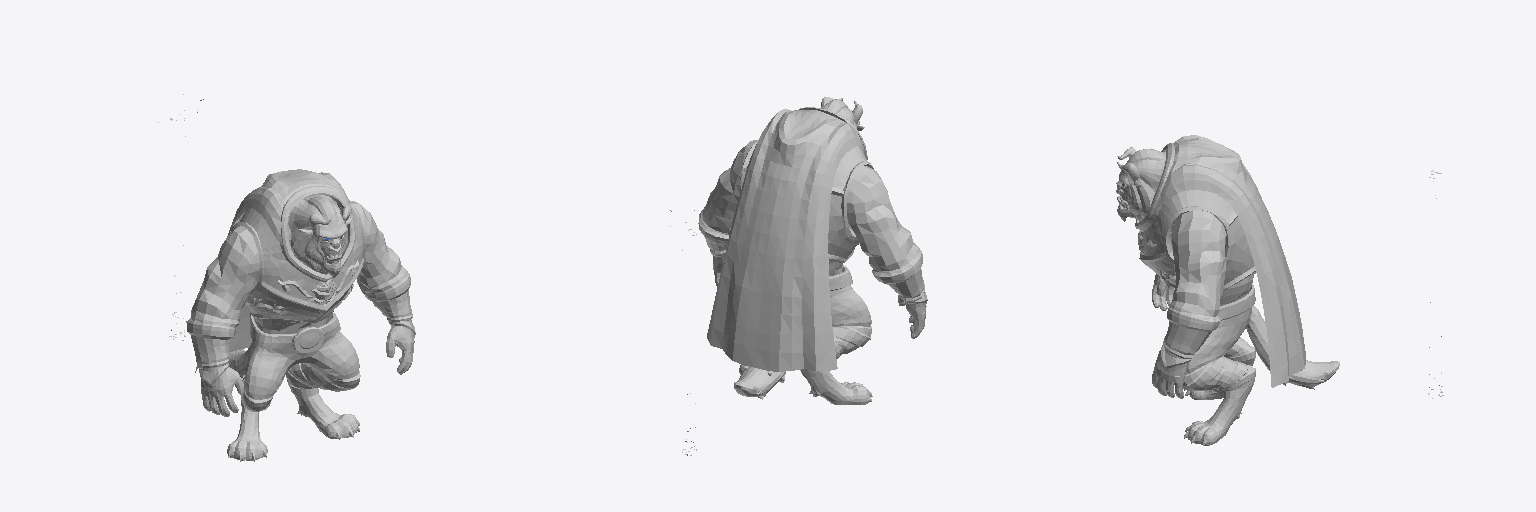
3 views of the same model, side by side, from view 1: azimuth 30°, elevation 25°; view 2: azimuth 150°, elevation 25°; view 3: azimuth 270°, elevation 25° (orthographic).
Visible parts, largest first — view 1: cha_beast_001_LOD0_mesh.030, cha_beast_001_LOD0_mesh.004, cha_beast_001_LOD0_mesh.099, cha_beast_001_LOD0_mesh.010, cha_beast_001_LOD0_mesh.022, cha_beast_001_LOD0_mesh.007, cha_beast_001_LOD0_mesh.024, cha_beast_001_LOD0_mesh.029, cha_beast_001_LOD0_mesh.011, cha_beast_001_LOD0_mesh.003, cha_beast_001_LOD0_mesh.005, cha_beast_001_LOD0_mesh.012 (+4 smaller); view 2: cha_beast_001_LOD0_mesh.099, cha_beast_001_LOD0_mesh.004, cha_beast_001_LOD0_mesh.031, cha_beast_001_LOD0_mesh.007, cha_beast_001_LOD0_mesh.024, cha_beast_001_LOD0_mesh.008, cha_beast_001_LOD0_mesh.003, cha_beast_001_LOD0_mesh.085, cha_beast_001_LOD0_mesh.005, cha_beast_001_LOD0_mesh.023; view 3: cha_beast_001_LOD0_mesh.099, cha_beast_001_LOD0_mesh.024, cha_beast_001_LOD0_mesh.010, cha_beast_001_LOD0_mesh.031, cha_beast_001_LOD0_mesh.030, cha_beast_001_LOD0_mesh.022, cha_beast_001_LOD0_mesh.023, cha_beast_001_LOD0_mesh.085, cha_beast_001_LOD0_mesh.012, cha_beast_001_LOD0_mesh.025, cha_beast_001_LOD0_mesh.029, cha_beast_001_LOD0_mesh.011 (+1 smaller).
Boxes of the visible parts, <box> form: cha_beast_001_LOD0_mesh.030: <box>245,207,365,323</box>; cha_beast_001_LOD0_mesh.004: <box>189,222,259,327</box>; cha_beast_001_LOD0_mesh.099: <box>195,169,351,372</box>; cha_beast_001_LOD0_mesh.010: <box>286,331,360,396</box>; cha_beast_001_LOD0_mesh.022: <box>288,195,347,274</box>; cha_beast_001_LOD0_mesh.007: <box>240,341,303,411</box>; cha_beast_001_LOD0_mesh.024: <box>349,200,407,292</box>; cha_beast_001_LOD0_mesh.029: <box>280,186,355,281</box>; cha_beast_001_LOD0_mesh.011: <box>250,313,340,352</box>; cha_beast_001_LOD0_mesh.003: <box>186,320,235,368</box>; cha_beast_001_LOD0_mesh.005: <box>199,363,241,416</box>; cha_beast_001_LOD0_mesh.012: <box>294,393,359,439</box>; cha_beast_001_LOD0_mesh.099: <box>707,109,864,371</box>; cha_beast_001_LOD0_mesh.004: <box>847,165,919,272</box>; cha_beast_001_LOD0_mesh.031: <box>741,141,867,262</box>; cha_beast_001_LOD0_mesh.007: <box>800,285,871,377</box>; cha_beast_001_LOD0_mesh.024: <box>701,140,757,234</box>; cha_beast_001_LOD0_mesh.008: <box>806,372,872,404</box>; cha_beast_001_LOD0_mesh.003: <box>872,247,924,301</box>; cha_beast_001_LOD0_mesh.085: <box>734,365,785,399</box>; cha_beast_001_LOD0_mesh.005: <box>898,292,927,338</box>; cha_beast_001_LOD0_mesh.023: <box>698,207,728,254</box>; cha_beast_001_LOD0_mesh.099: <box>1155,135,1305,387</box>; cha_beast_001_LOD0_mesh.024: <box>1170,207,1226,318</box>; cha_beast_001_LOD0_mesh.010: <box>1183,307,1255,398</box>; cha_beast_001_LOD0_mesh.031: <box>1178,190,1255,290</box>; cha_beast_001_LOD0_mesh.030: <box>1138,193,1184,287</box>; cha_beast_001_LOD0_mesh.022: <box>1116,149,1165,221</box>; cha_beast_001_LOD0_mesh.023: <box>1163,307,1220,358</box>; cha_beast_001_LOD0_mesh.085: <box>1246,305,1339,389</box>; cha_beast_001_LOD0_mesh.012: <box>1184,396,1247,445</box>; cha_beast_001_LOD0_mesh.025: <box>1152,345,1190,398</box>; cha_beast_001_LOD0_mesh.029: <box>1135,143,1174,231</box>; cha_beast_001_LOD0_mesh.011: <box>1172,284,1255,320</box>.
Size of the model in its own units: 1.71 by 2.4 by 2.24.
12 materials, 2 textured.